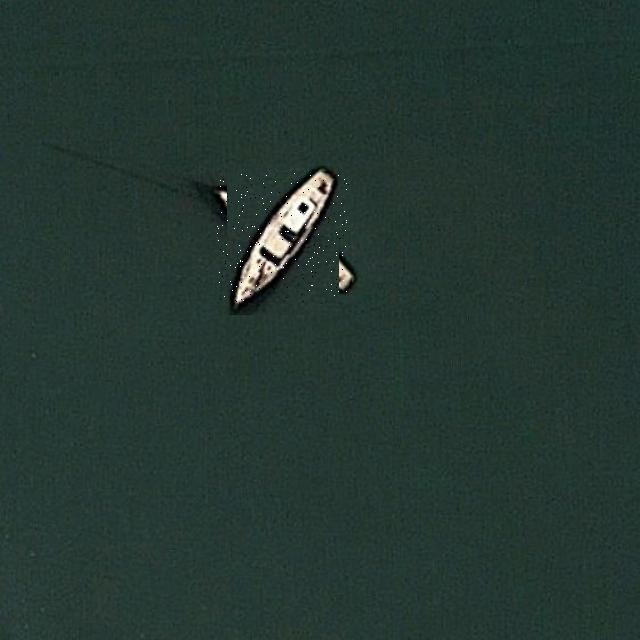boat: (217, 173, 349, 305)
